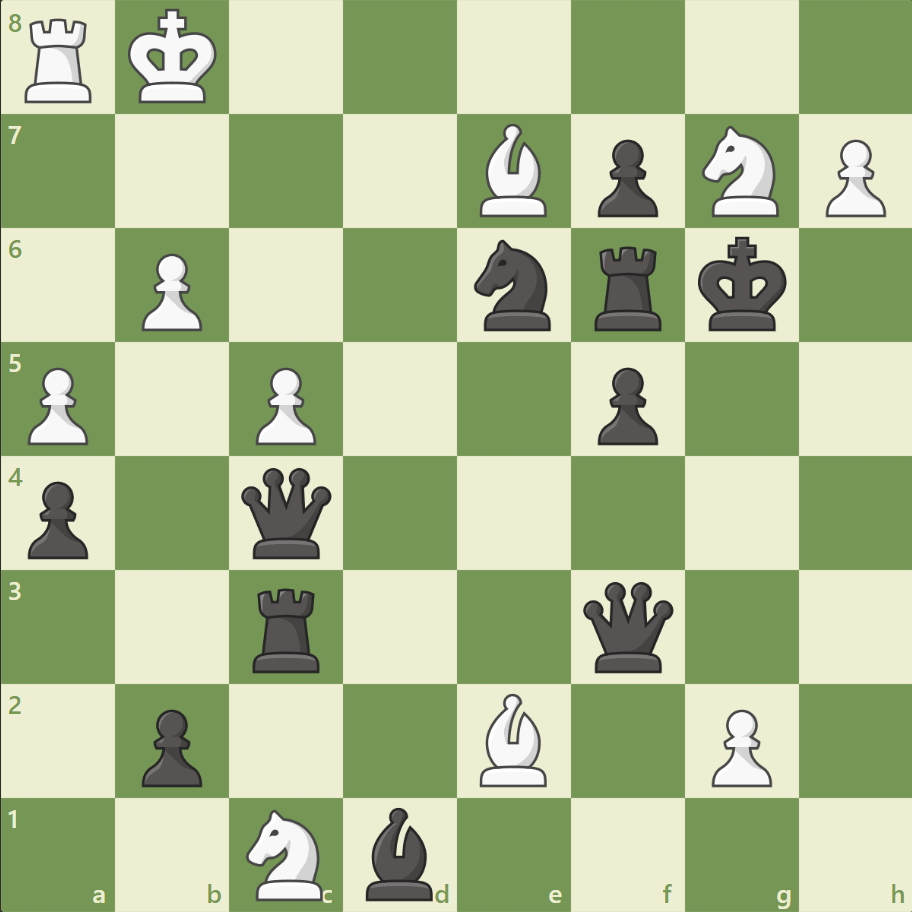B: (471, 687, 555, 790), (471, 120, 555, 222)
K: (124, 4, 224, 112)
N: (692, 121, 789, 223), (238, 802, 335, 904)
P: (133, 246, 208, 337), (20, 359, 95, 450), (247, 359, 322, 450), (701, 700, 776, 791), (815, 132, 889, 223)
R: (19, 12, 102, 109)
b: (358, 801, 442, 904)
k: (692, 231, 792, 339)
n: (465, 234, 562, 337)
p: (20, 473, 95, 564), (133, 700, 208, 791), (588, 132, 662, 223), (588, 359, 662, 450)
q: (578, 576, 677, 676), (237, 463, 336, 562)
r: (587, 239, 670, 336), (246, 579, 329, 676)
